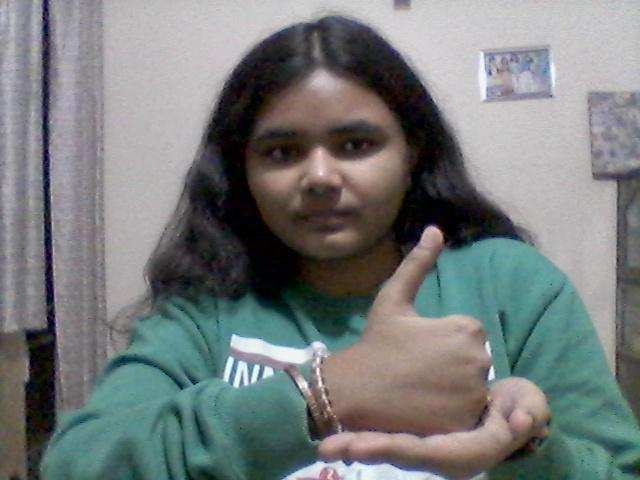help: (301, 222, 558, 467)
